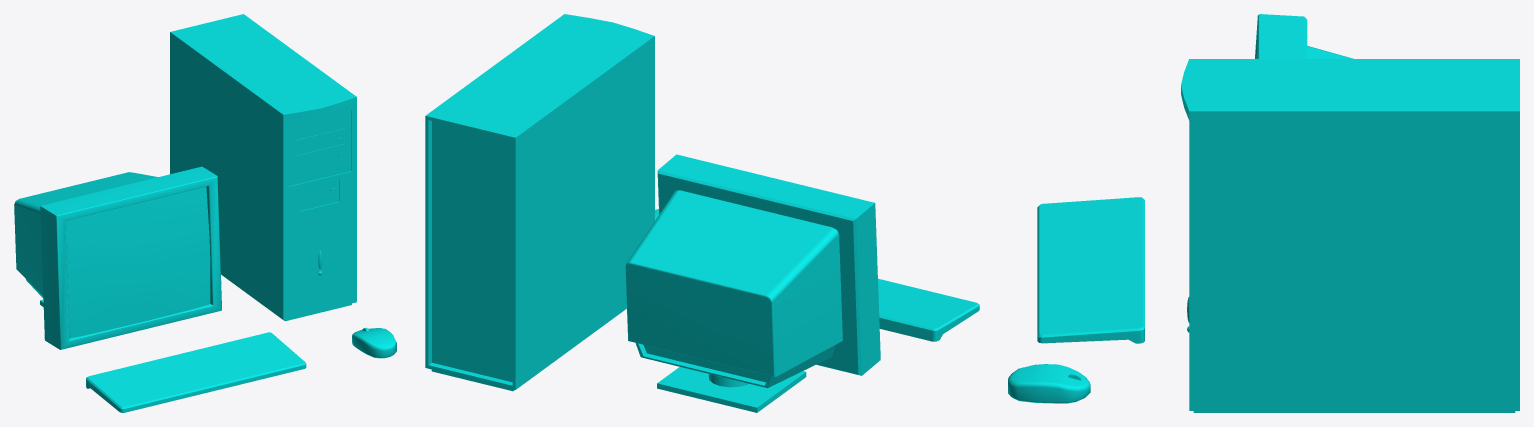
Rendered from classroomComputer.fbx.
3 views of the same model, side by side, from view 1: azimuth 30°, elevation 25°; view 2: azimuth 150°, elevation 25°; view 3: azimuth 270°, elevation 25° (orthographic). The views are drawn at different scales.
Visible parts, largest first — view 1: classroomCPU, classroomMonitor, classroomKeyboard, classroomMouse; view 2: classroomCPU, classroomMonitor, classroomKeyboard; view 3: classroomCPU, classroomKeyboard, classroomMouse, classroomMonitor.
Part boxes in pixels (x1,y1,x2,y2): classroomCPU: (170,14,356,321); classroomMonitor: (14,166,221,349); classroomKeyboard: (86,332,306,412); classroomMouse: (352,327,396,358); classroomCPU: (425,14,654,391); classroomMonitor: (625,154,880,412); classroomKeyboard: (878,278,979,341); classroomCPU: (1181,59,1519,412); classroomKeyboard: (1037,197,1144,343); classroomMouse: (1008,364,1090,403); classroomMonitor: (1255,14,1353,58).
Bounding box in the file's own units: 58.62 × 40.63 × 61.92.
